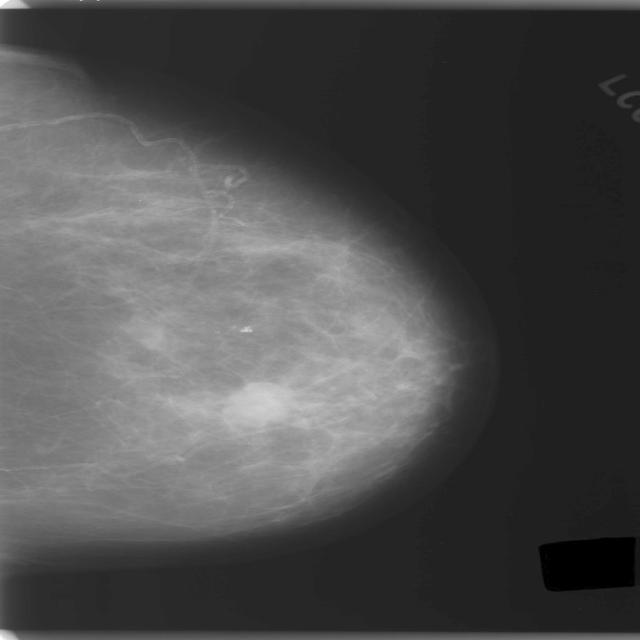tumour: (223, 380, 292, 425)
